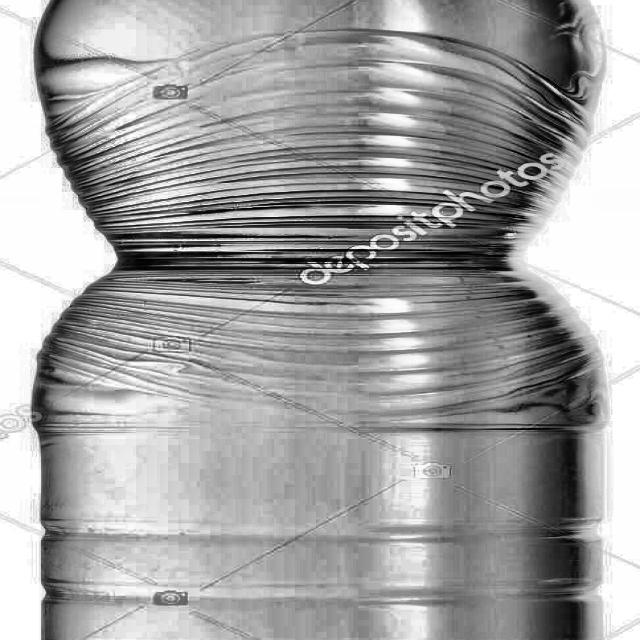bottle: (29, 0, 609, 640)
